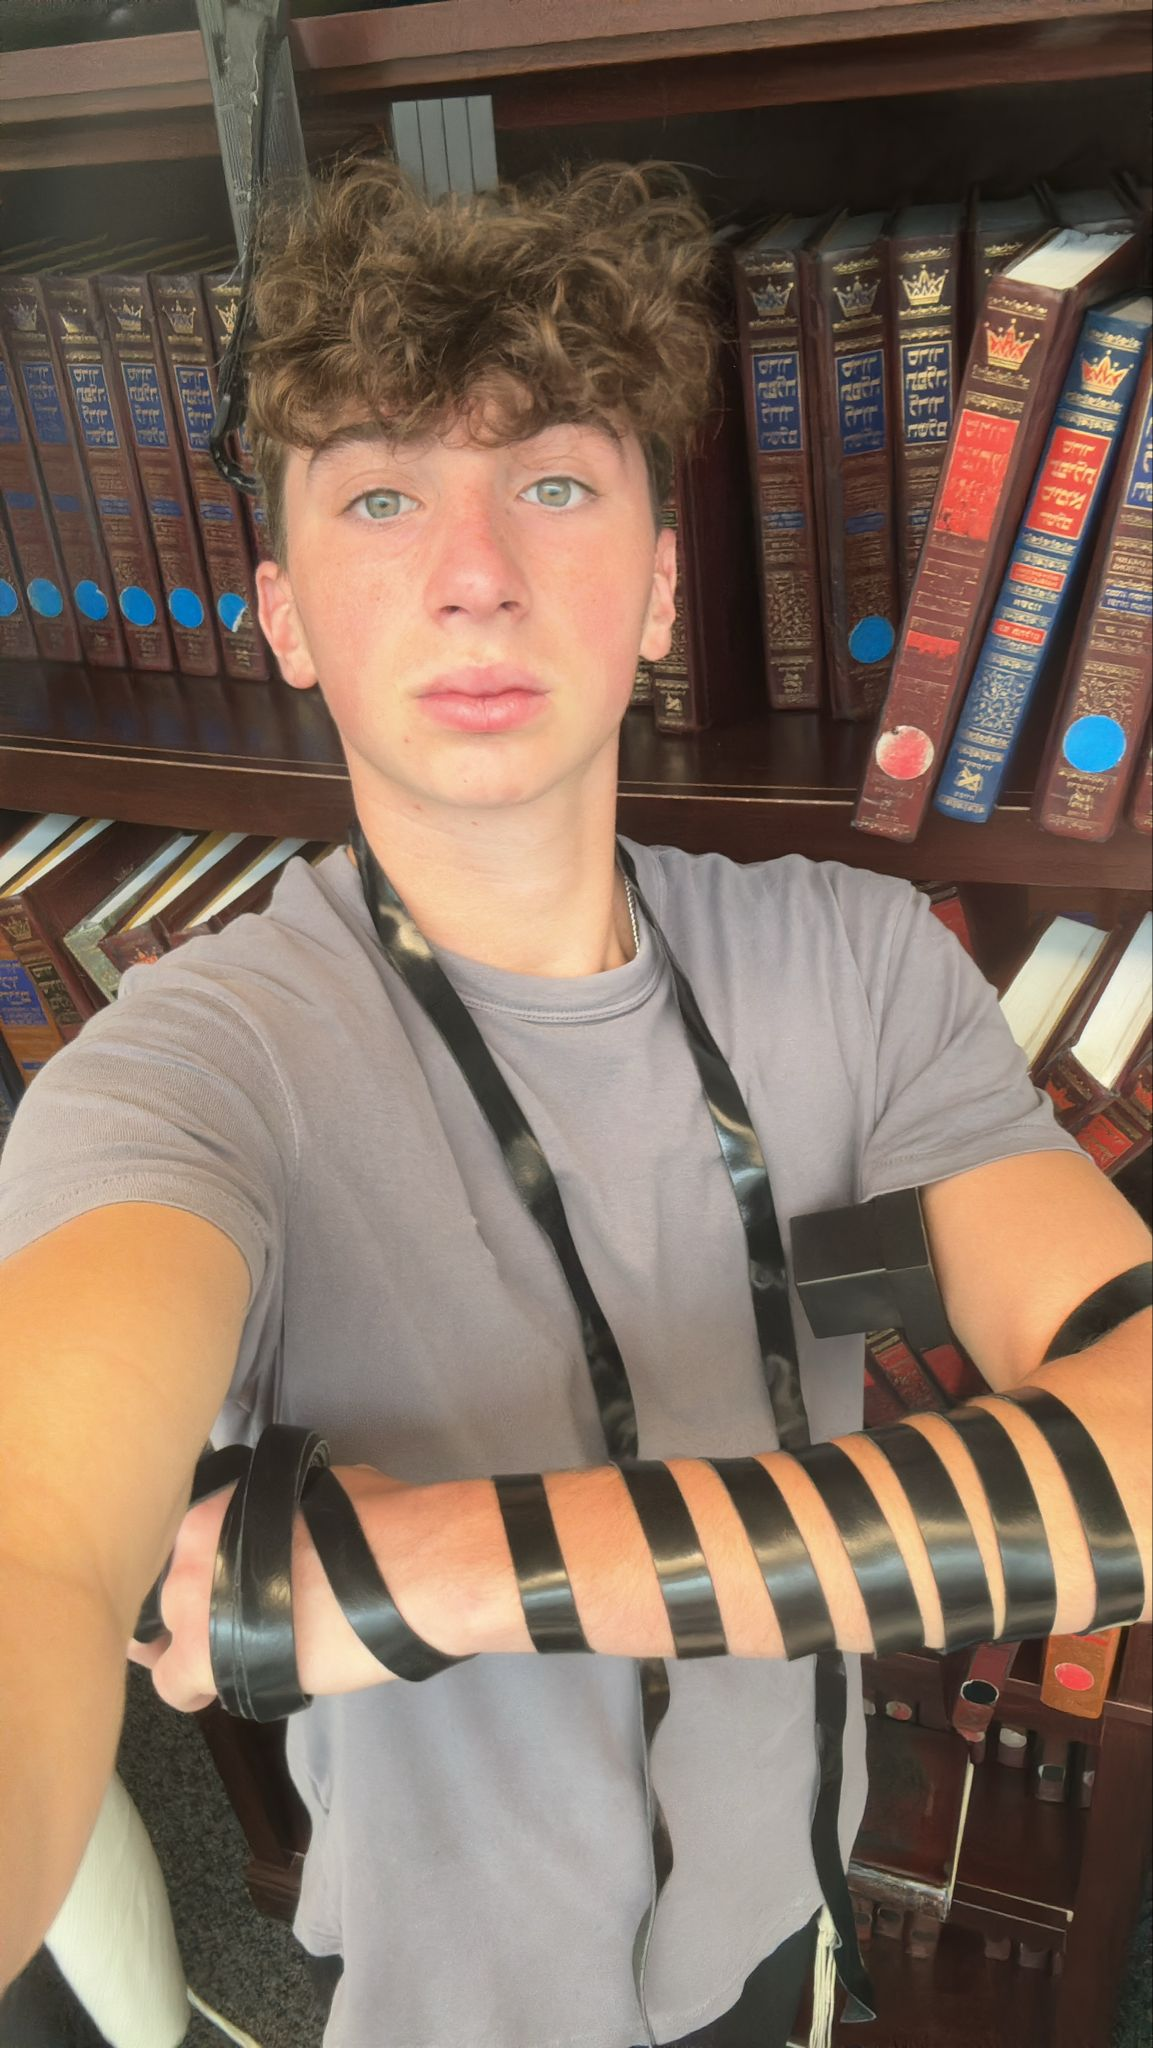tefillin: (785, 1186, 953, 1352)
